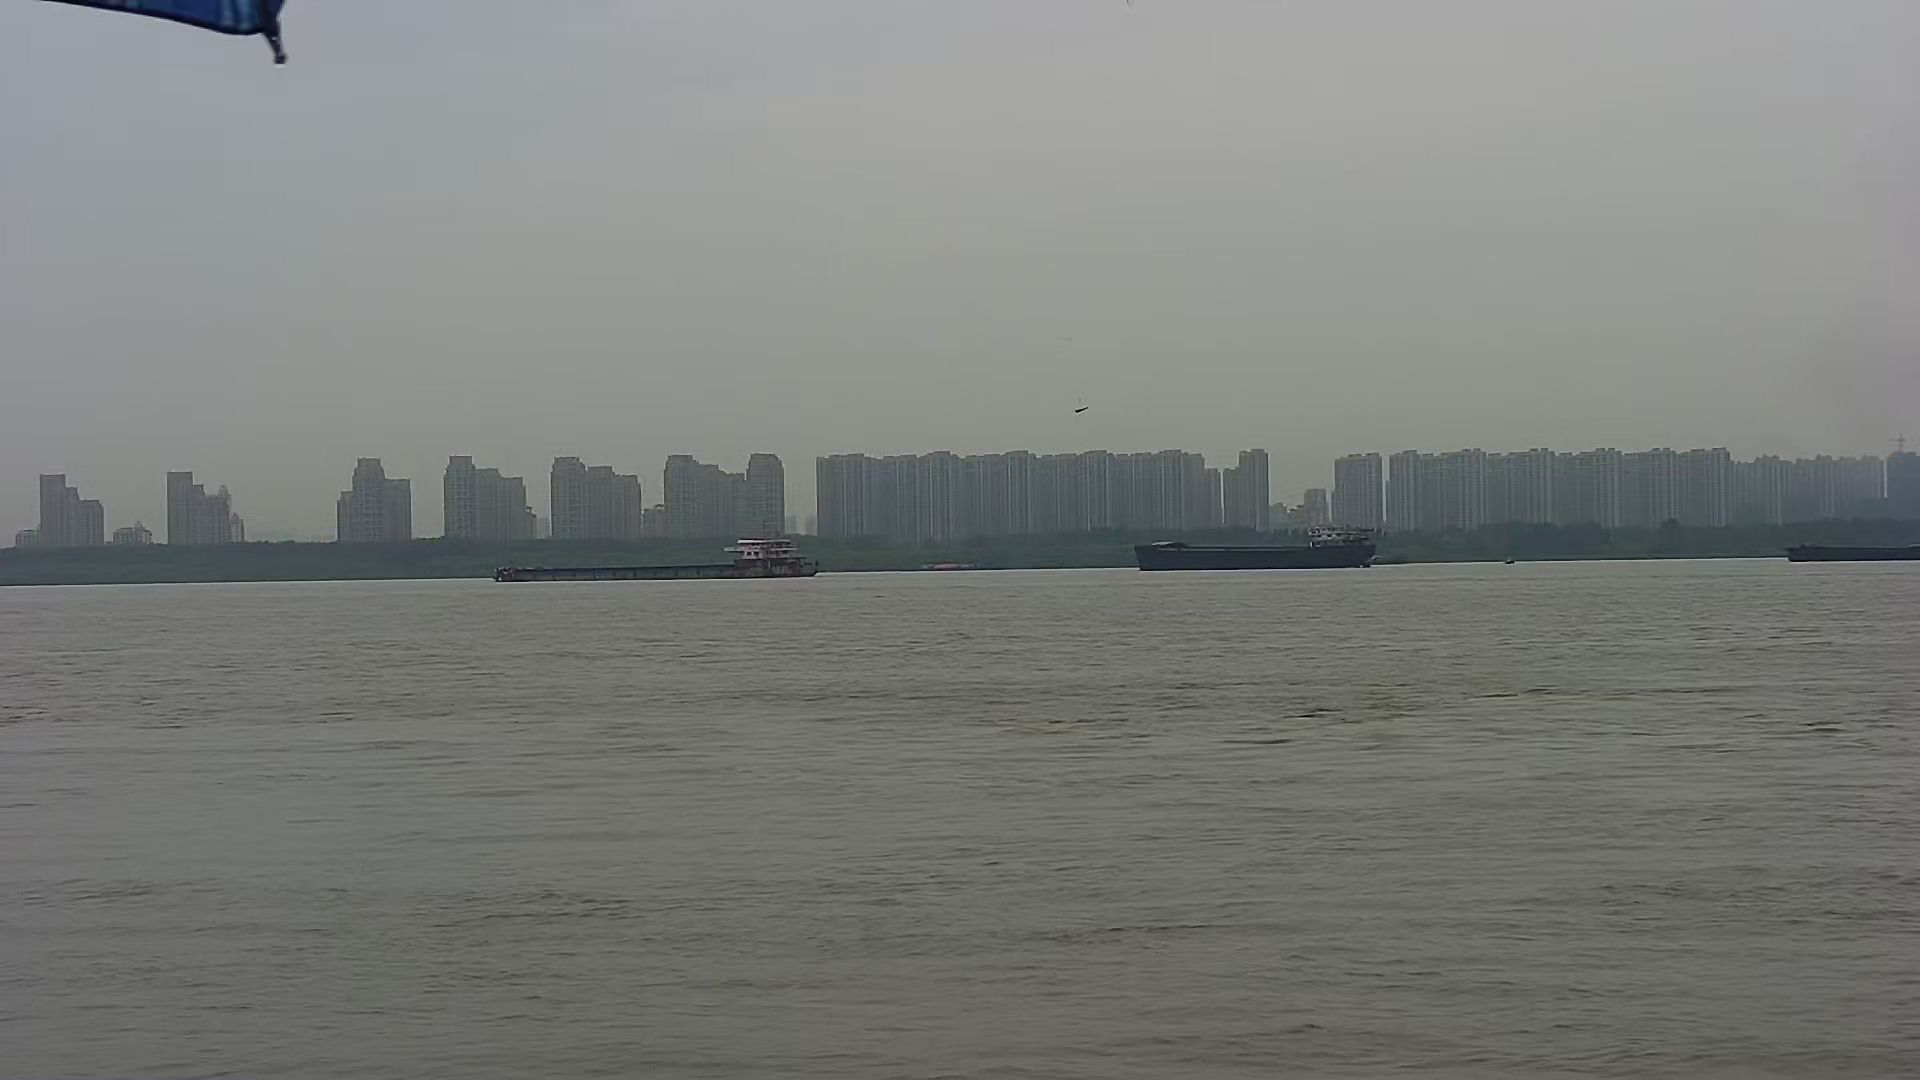ship: (489, 529, 819, 582), (1130, 517, 1387, 574), (1787, 524, 1920, 567)
